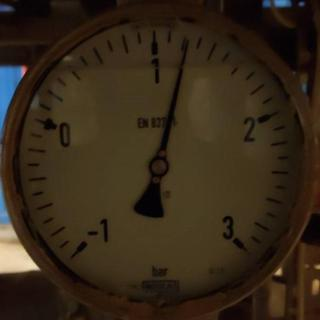gauge: (0, 0, 320, 320), (61, 214, 112, 268), (213, 212, 260, 266), (148, 154, 170, 178), (178, 35, 194, 57)
